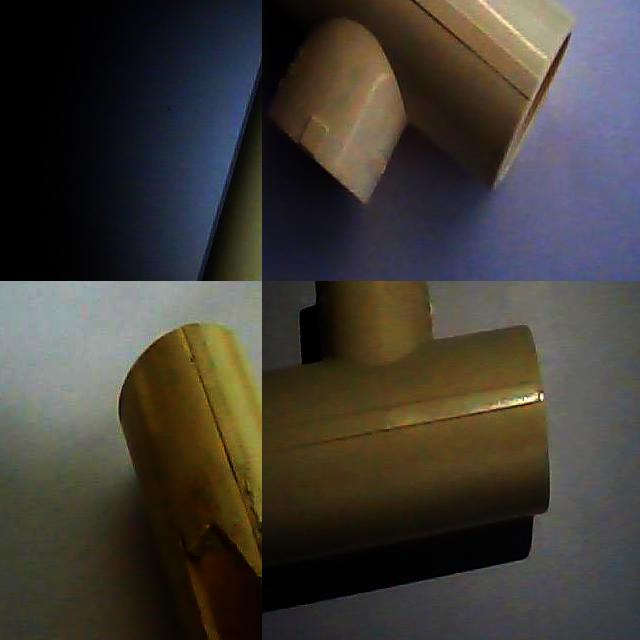Defective: (189, 518, 262, 640)
T Joint: (262, 281, 549, 566), (268, 0, 577, 205), (117, 324, 262, 640)
